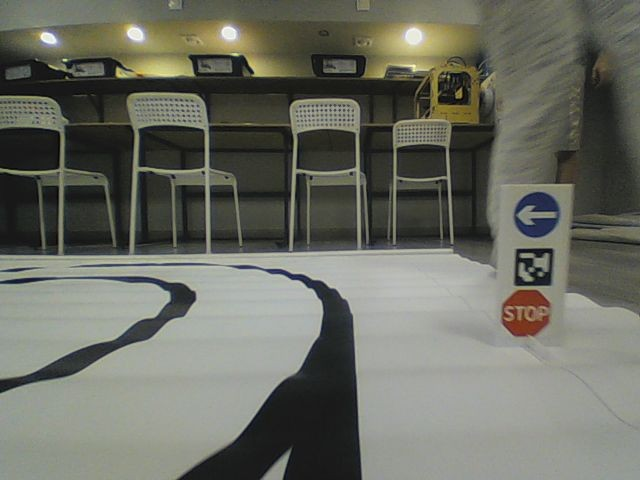Stop: (498, 288, 554, 340)
